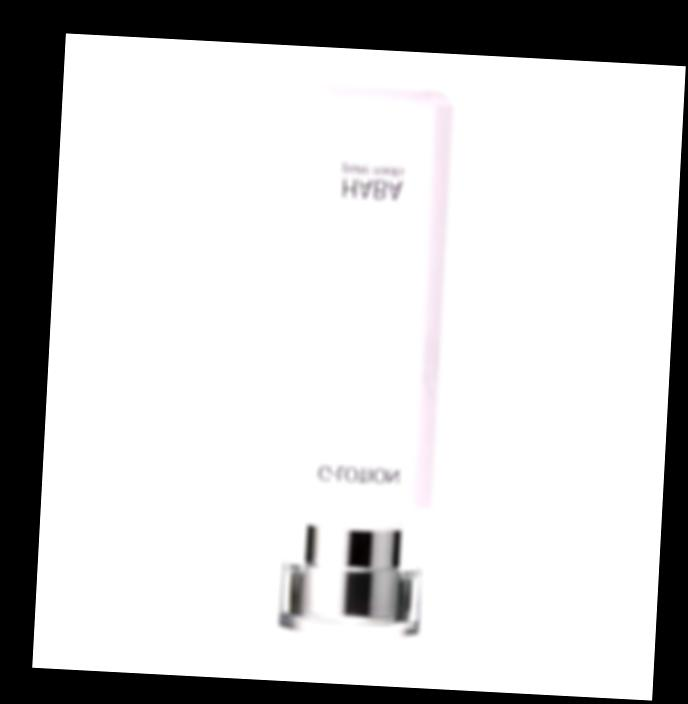cosmetic: (271, 85, 457, 638)
